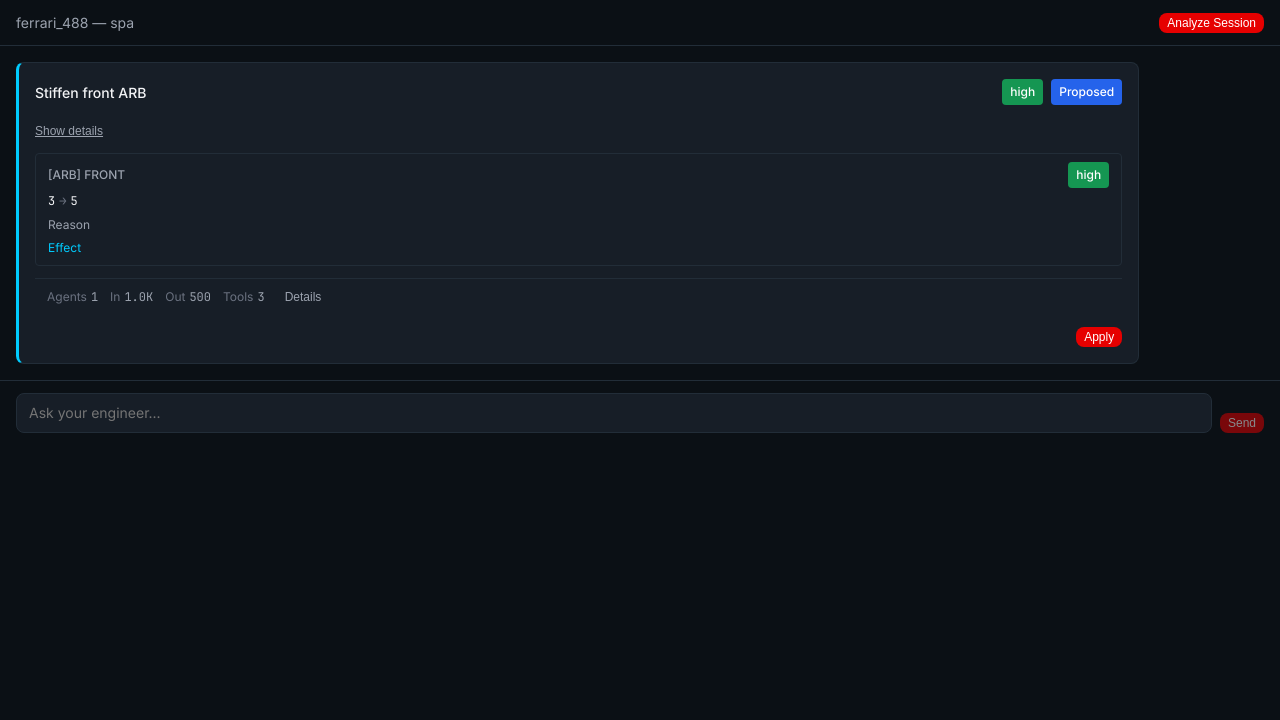
Scenario: EngineerView › US3 — Apply Setup Recommendations › clicking Apply on recommendation card opens modal
The width and height of the screenshot is (1280, 720).
Click the button "Apply".
click(1099, 337)  # box [1076, 327, 1122, 347]
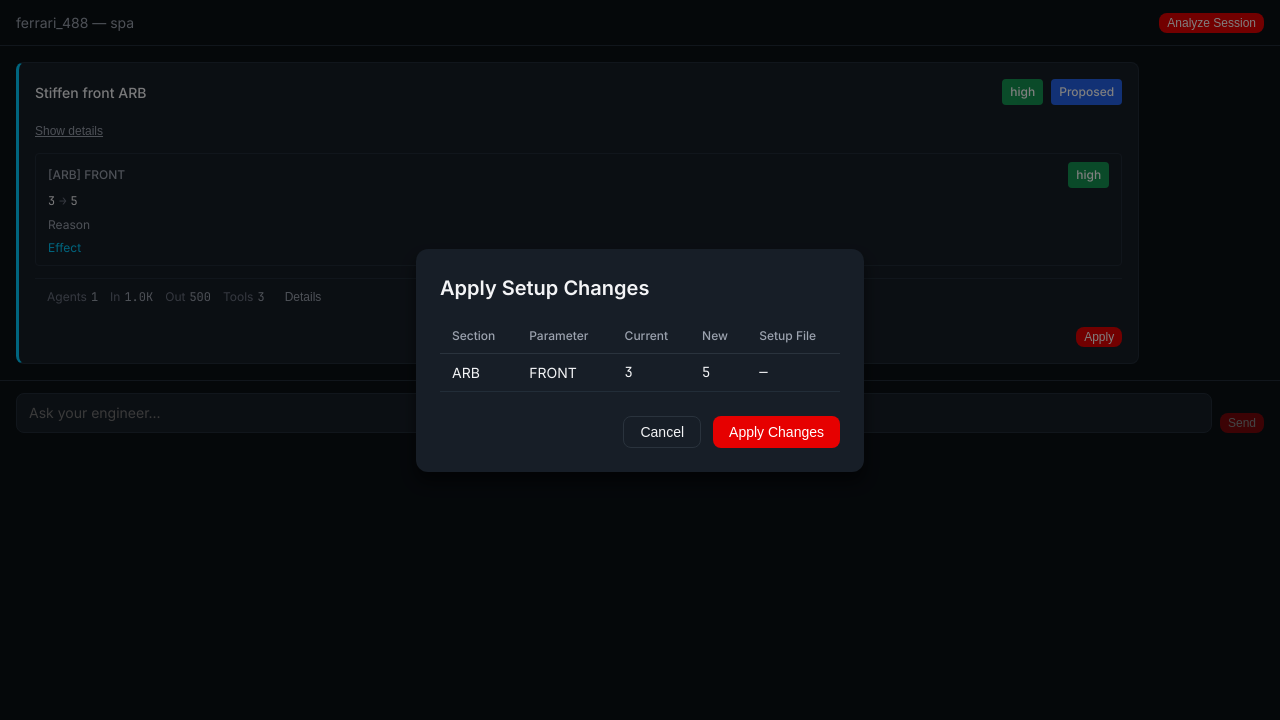
Expected: the heading "Apply Setup Changes" is shown, [440, 276, 649, 300]
